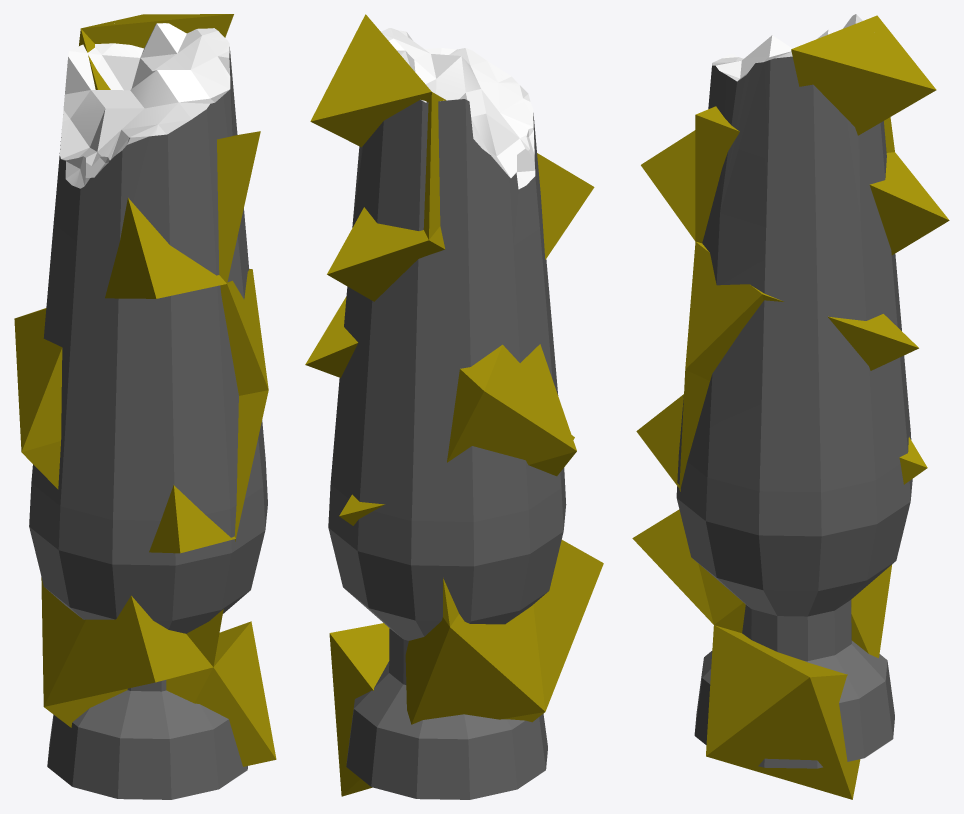
The model's file is SMT_Pillar_Range_06.fbx.
3 views of the same model, side by side, from view 1: azimuth 30°, elevation 25°; view 2: azimuth 150°, elevation 25°; view 3: azimuth 270°, elevation 25° (orthographic).
Parts seen in each view (by area): view 1: SM_Pillar_Range_06, chunk3_27, chunk7_3, chunk18_14, chunk20_16, chunk17_13, chunk25_21, chunk13_9, chunk26_22, chunk1_25, chunk12_7, chunk4_0 (+3 smaller); view 2: SM_Pillar_Range_06, chunk0_24, chunk26_22, chunk19_15, chunk3_27, chunk14_10, chunk20_16, chunk1_25, chunk18_14, chunk6_2, chunk7_3, chunk27_23 (+2 smaller); view 3: SM_Pillar_Range_06, chunk6_2, chunk26_22, chunk7_3, chunk14_10, chunk25_21, chunk3_27, chunk17_13, chunk18_14, chunk0_24, chunk22_18, chunk13_9 (+4 smaller).
Boxes of the visible parts, left/top/right/bottom form: SM_Pillar_Range_06: left=29, top=23, right=267, bottom=799; chunk3_27: left=44, top=595, right=212, bottom=706; chunk7_3: left=194, top=621, right=276, bottom=766; chunk18_14: left=105, top=198, right=226, bottom=298; chunk20_16: left=14, top=308, right=62, bottom=452; chunk17_13: left=217, top=131, right=260, bottom=283; chunk25_21: left=221, top=269, right=268, bottom=395; chunk13_9: left=149, top=485, right=235, bottom=553; chunk26_22: left=81, top=14, right=233, bottom=48; chunk1_25: left=41, top=577, right=85, bottom=706; chunk12_7: left=234, top=390, right=268, bottom=538; chunk4_0: left=44, top=667, right=213, bottom=727; SM_Pillar_Range_06: left=328, top=28, right=566, bottom=799; chunk0_24: left=405, top=617, right=544, bottom=724; chunk26_22: left=310, top=14, right=431, bottom=147; chunk19_15: left=447, top=369, right=576, bottom=464; chunk3_27: left=533, top=540, right=603, bottom=711; chunk14_10: left=327, top=207, right=428, bottom=301; chunk20_16: left=460, top=344, right=576, bottom=450; chunk1_25: left=450, top=605, right=545, bottom=711; chunk18_14: left=537, top=153, right=594, bottom=259; chunk6_2: left=329, top=633, right=373, bottom=796; chunk7_3: left=330, top=623, right=389, bottom=690; chunk27_23: left=423, top=92, right=445, bottom=239; SM_Pillar_Range_06: left=676, top=14, right=912, bottom=768; chunk6_2: left=706, top=674, right=860, bottom=799; chunk26_22: left=791, top=15, right=936, bottom=135; chunk7_3: left=706, top=625, right=847, bottom=755; chunk14_10: left=869, top=152, right=949, bottom=255; chunk25_21: left=685, top=241, right=764, bottom=368; chunk3_27: left=632, top=509, right=713, bottom=624; chunk17_13: left=695, top=106, right=739, bottom=241; chunk18_14: left=641, top=130, right=695, bottom=240; chunk0_24: left=714, top=564, right=892, bottom=658; chunk22_18: left=762, top=294, right=918, bottom=370; chunk13_9: left=636, top=394, right=683, bottom=487.
Size of the model in its own units: 90.4 by 275 by 105.
